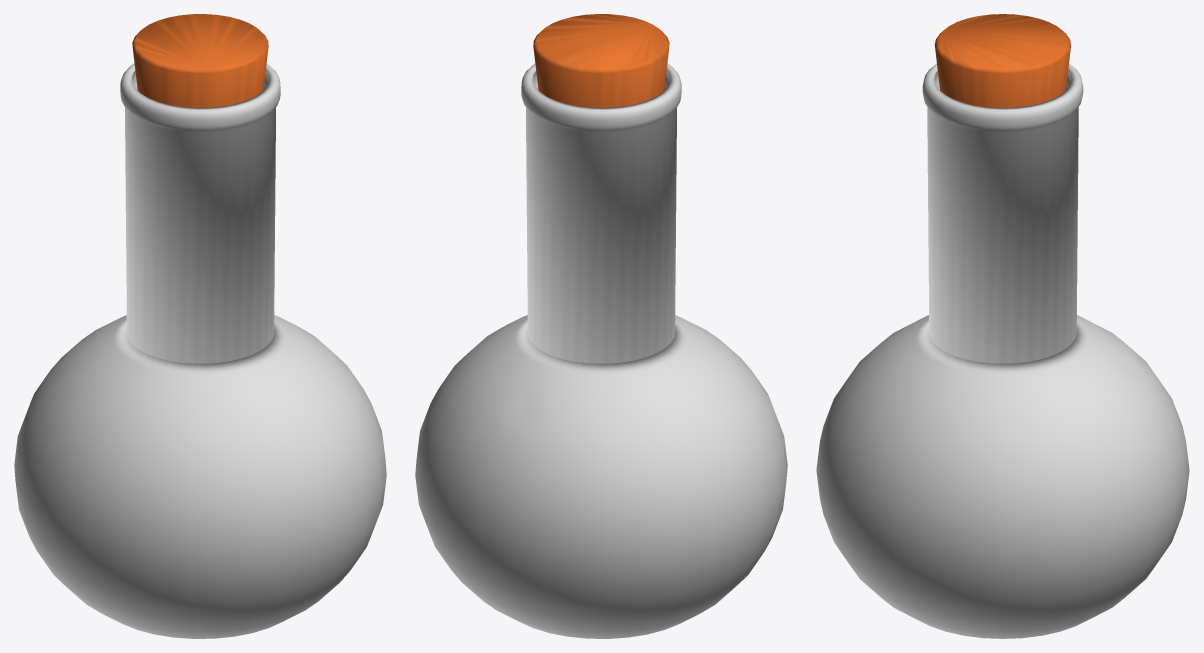
File: postion.fbx
3 views of the same model, side by side, from view 1: azimuth 30°, elevation 25°; view 2: azimuth 150°, elevation 25°; view 3: azimuth 270°, elevation 25° (orthographic).
Visible parts, largest first — view 1: bin, huta; view 2: bin, huta; view 3: bin, huta.
Part boxes in pixels (x1,y1,x2,y2): bin: [14, 63, 386, 638]; huta: [132, 14, 268, 107]; bin: [415, 63, 787, 638]; huta: [533, 14, 669, 107]; bin: [816, 63, 1189, 638]; huta: [934, 14, 1071, 108].
Size of the model in its own units: 2.08 by 3.47 by 2.08.
